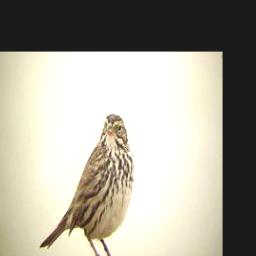Sparrow: (38, 112, 135, 256)
